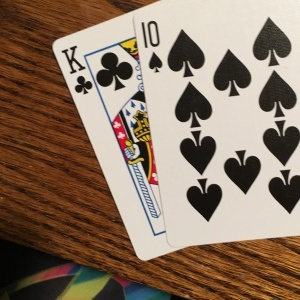card: (52, 38, 172, 262)
